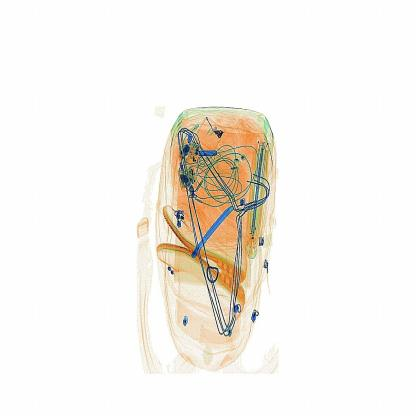pliers: (179, 201, 242, 268)
